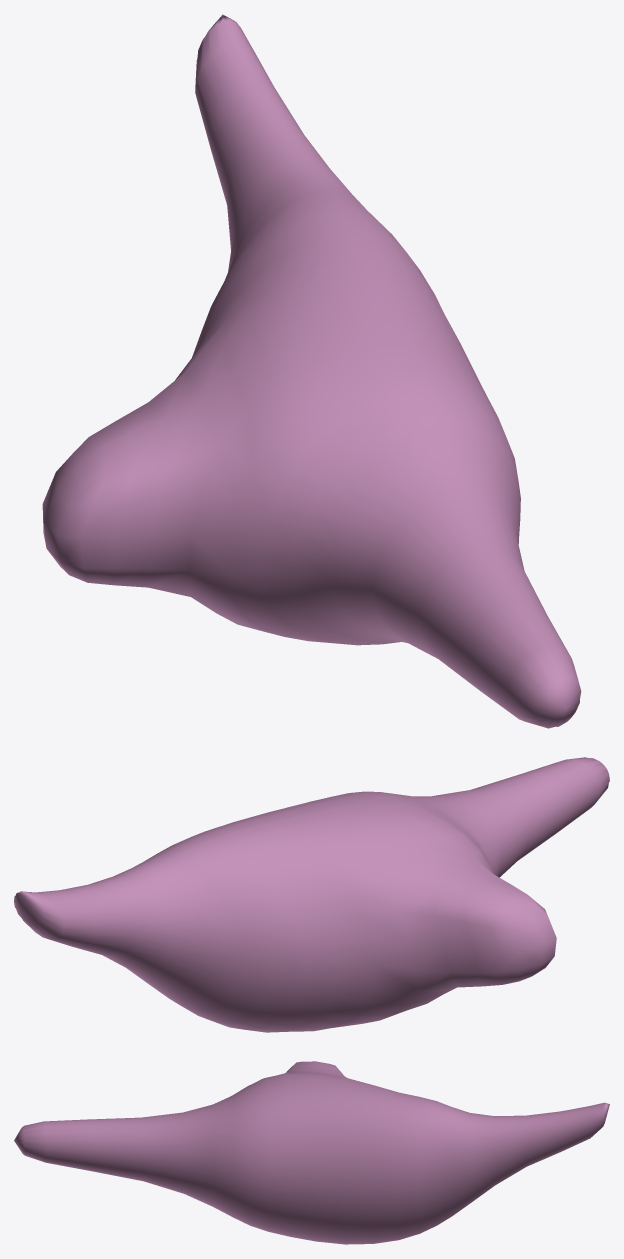
3 renders of one model, top to bottom at view 1: azimuth 30°, elevation 25°; view 2: azimuth 150°, elevation 25°; view 3: azimuth 270°, elevation 25°, orthographic. The views are drawn at different scales.
Parts seen in each view (by area): view 1: 右侧前庭神经核; view 2: 右侧前庭神经核; view 3: 右侧前庭神经核.
Part boxes in pixels (x1,y1,x2,y2): 右侧前庭神经核: (42,14,581,728); 右侧前庭神经核: (14,757,609,1032); 右侧前庭神经核: (14,1061,609,1244).
Size of the model in its own units: 0.00958 by 0.00642 by 0.0202.
